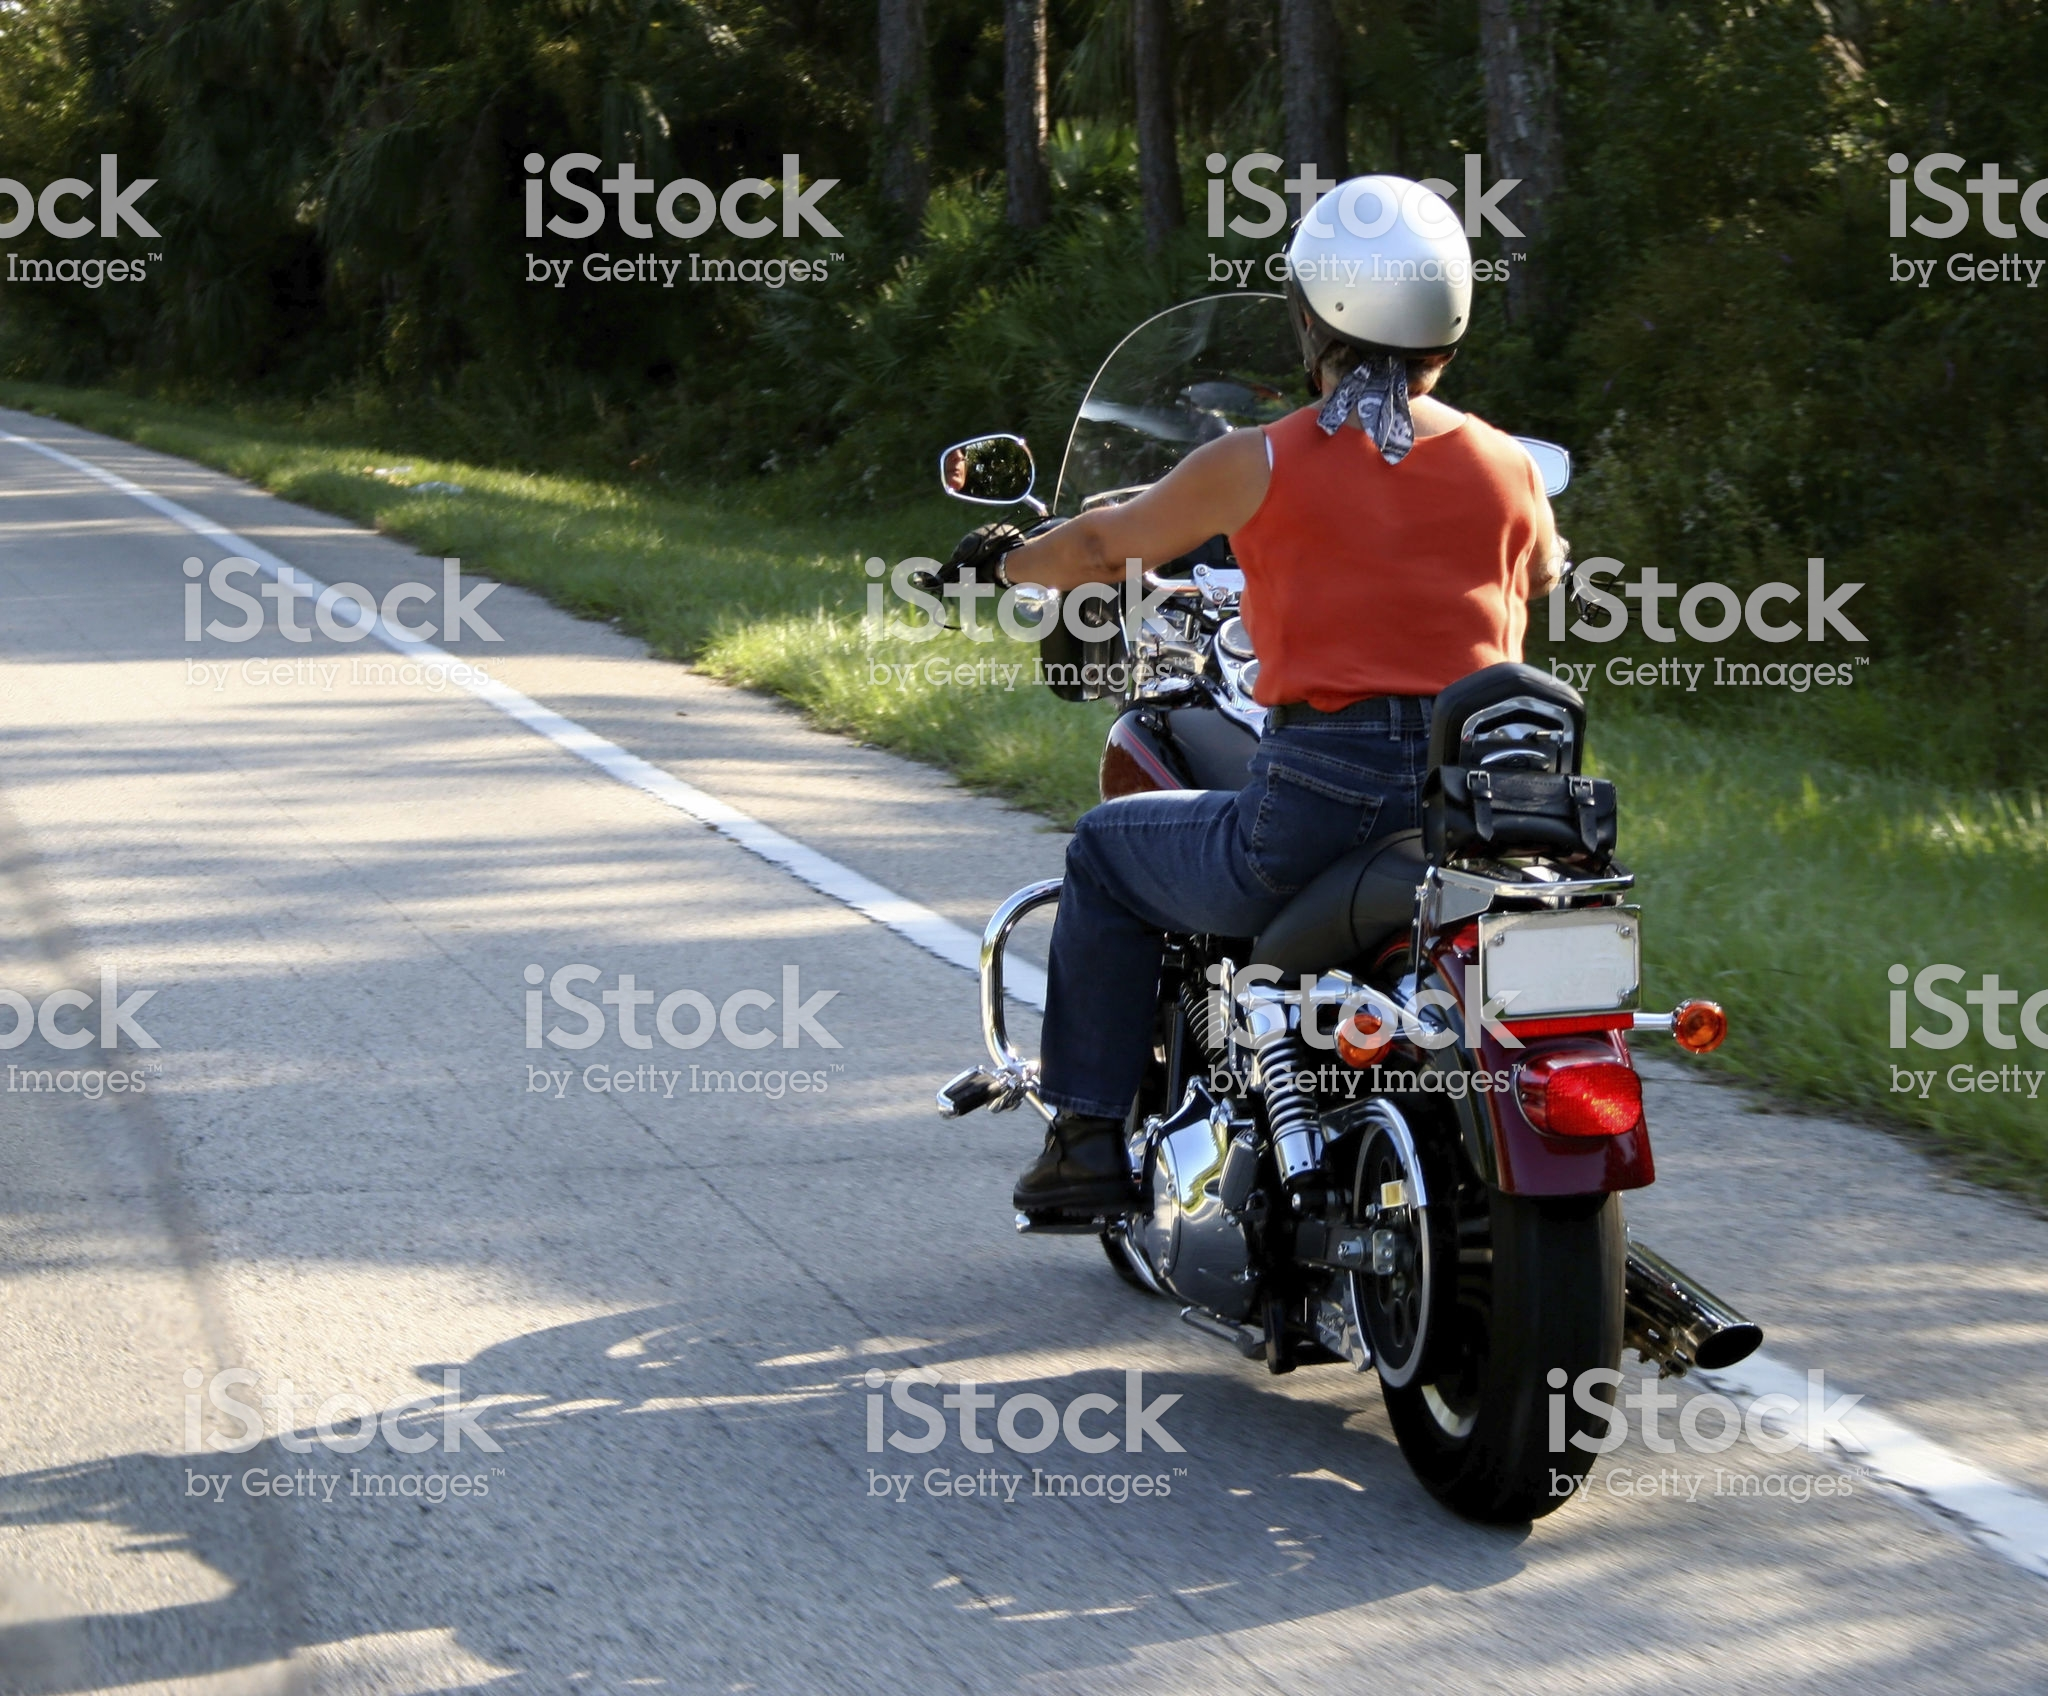helmet: (1271, 167, 1512, 386)
